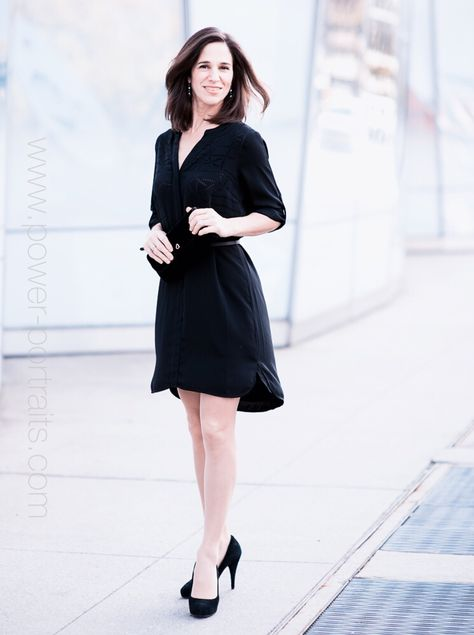person: (140, 25, 300, 630)
